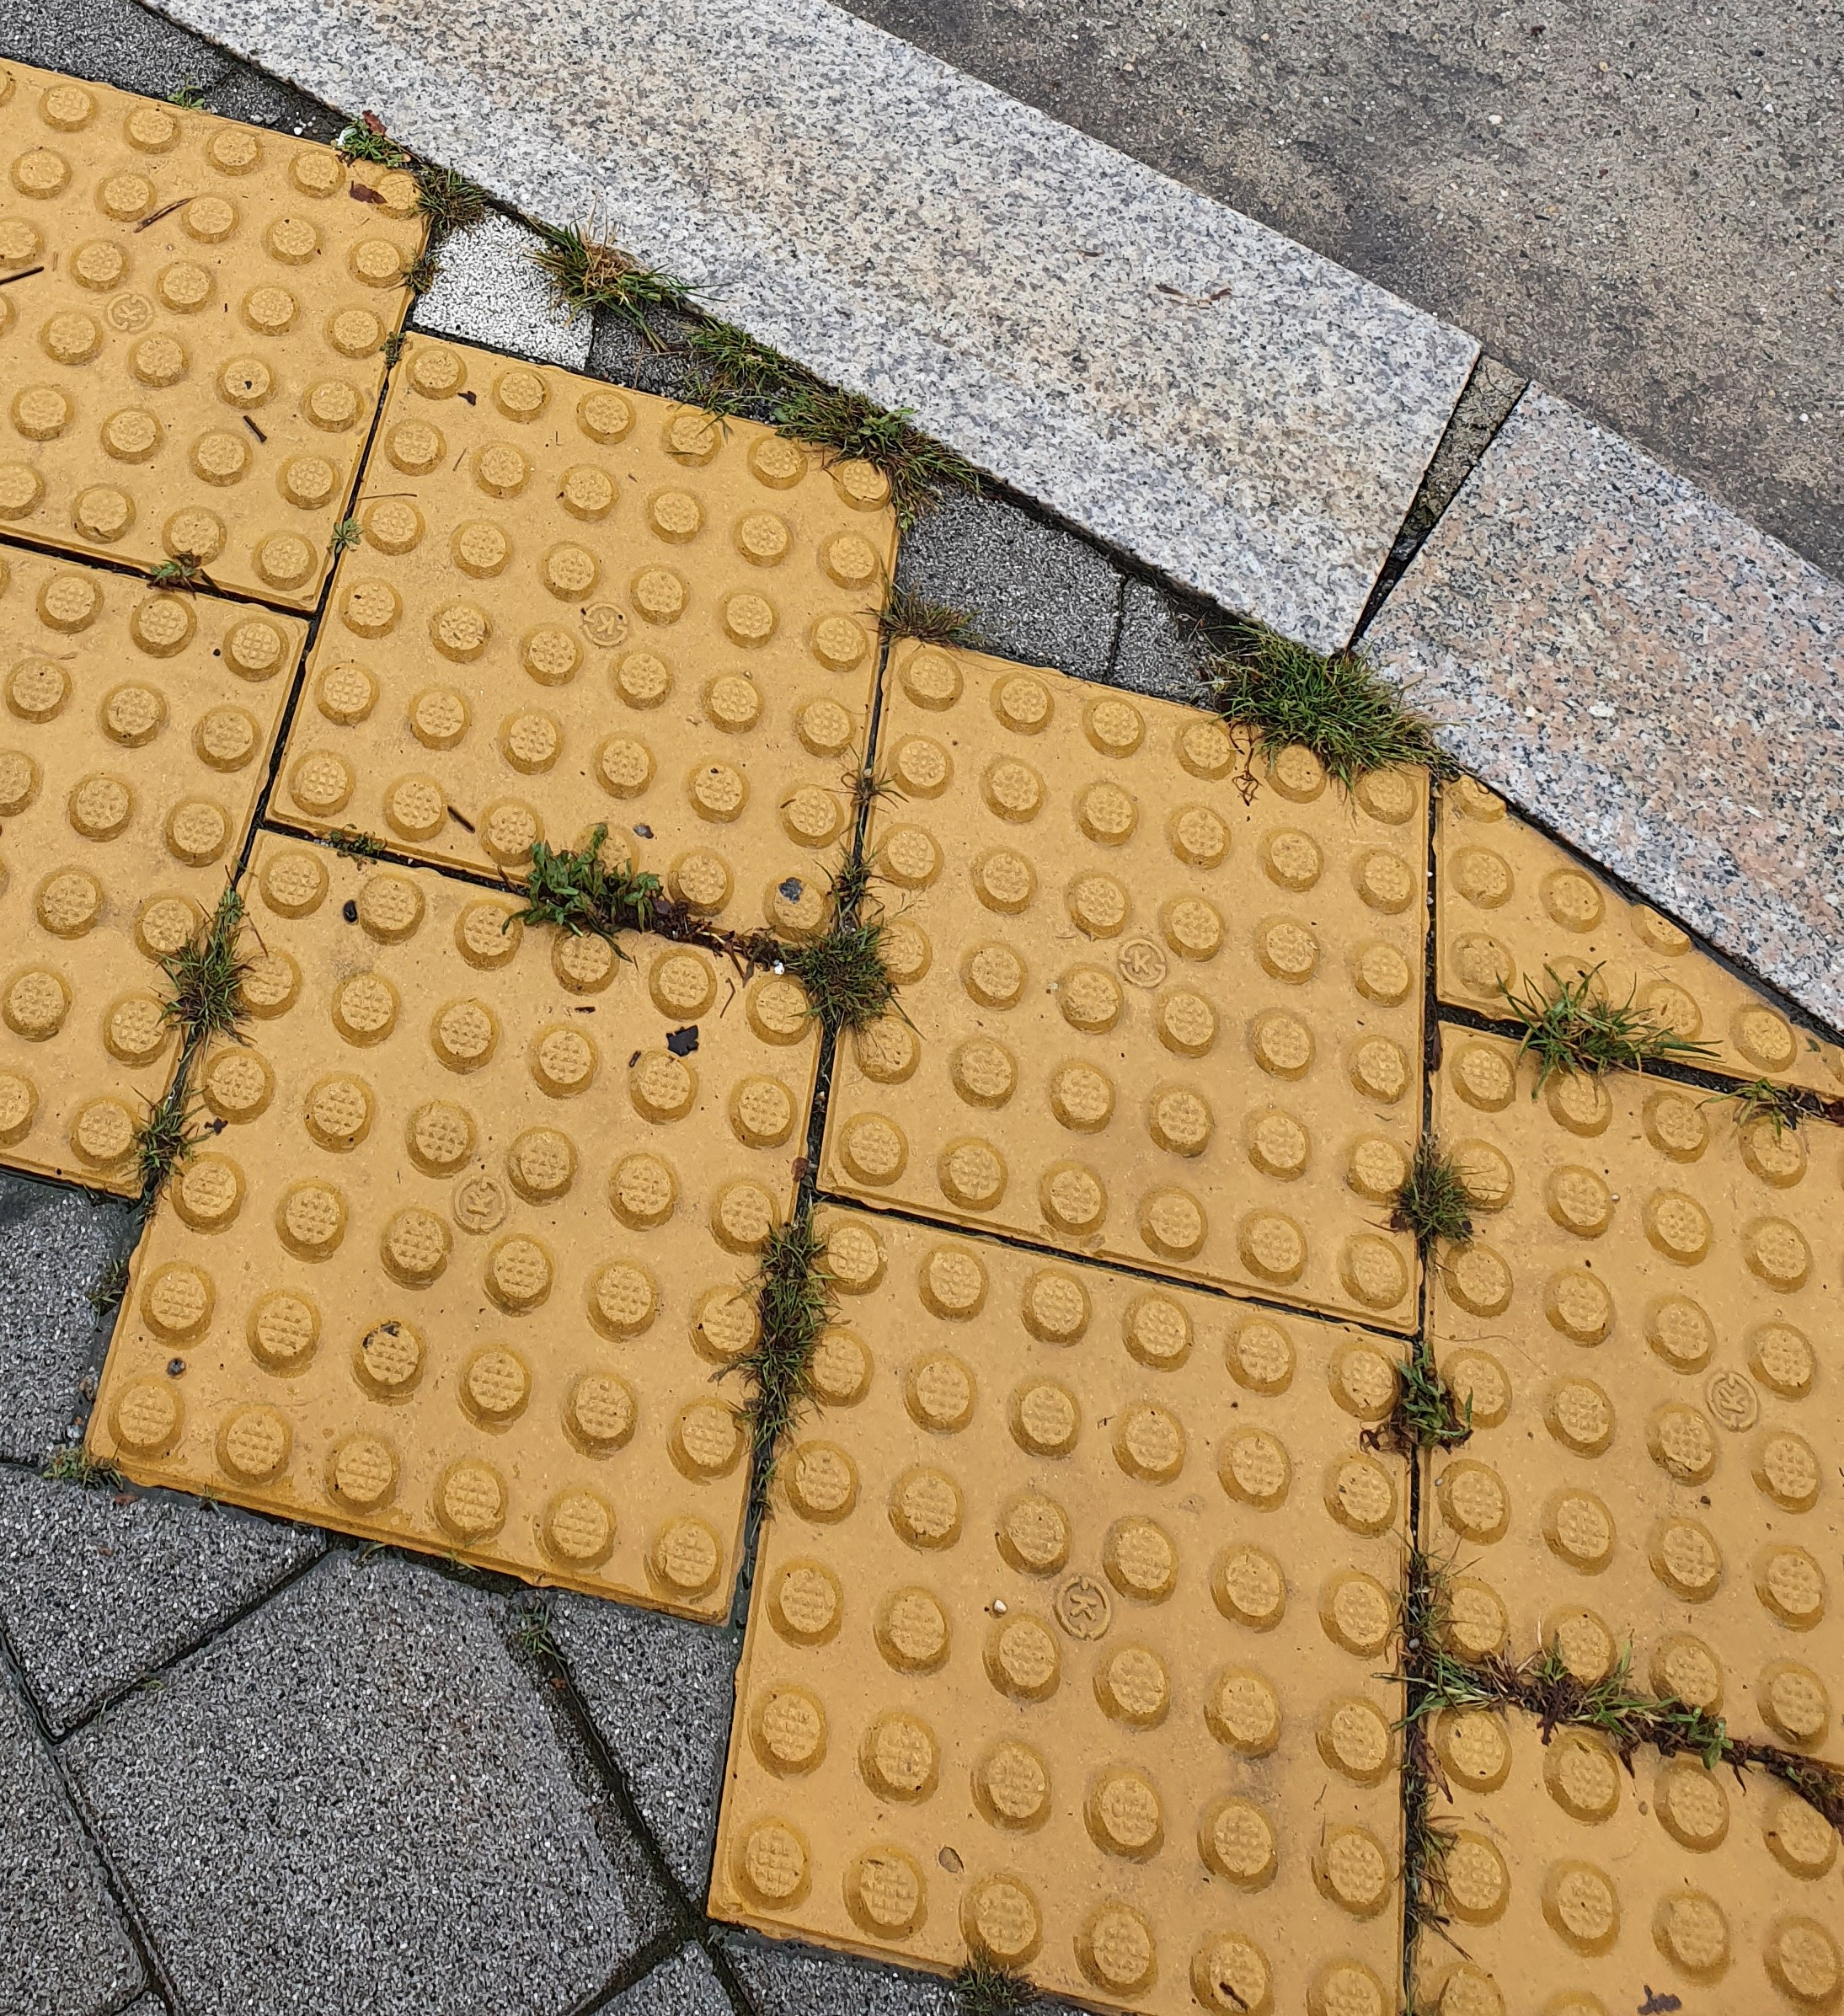warningBlock: (701, 1249, 1389, 2016), (846, 599, 1459, 1338), (183, 897, 787, 1507), (334, 376, 822, 938), (1412, 1050, 1844, 1672), (14, 571, 306, 1182), (1331, 1682, 1844, 2016), (42, 76, 351, 497)
